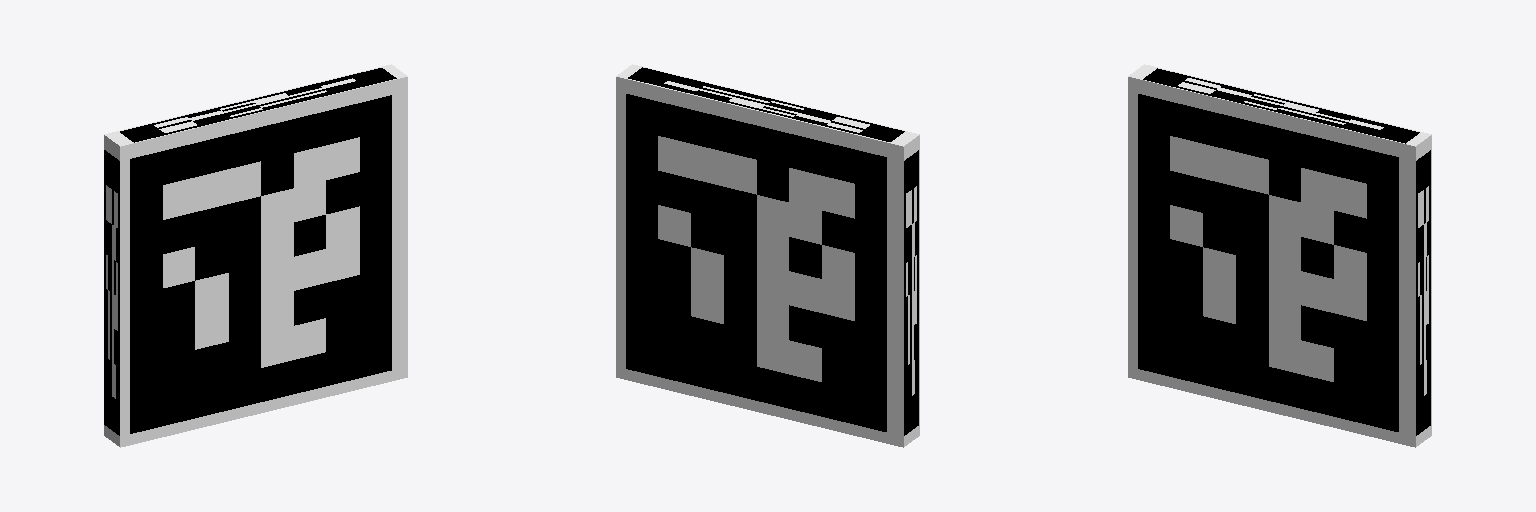
3 views of the same model, side by side, from view 1: azimuth 30°, elevation 25°; view 2: azimuth 150°, elevation 25°; view 3: azimuth 330°, elevation 25° (orthographic).
Visible parts, largest first — view 1: Cube; view 2: Cube; view 3: Cube.
Boxes of the visible parts, x1,y1,x2,y2 form: Cube: [104, 64, 407, 447]; Cube: [616, 64, 919, 447]; Cube: [1128, 64, 1431, 447].
Size of the model in its own units: 2 by 2 by 0.2.
Materials: 1 (1 with a texture image).